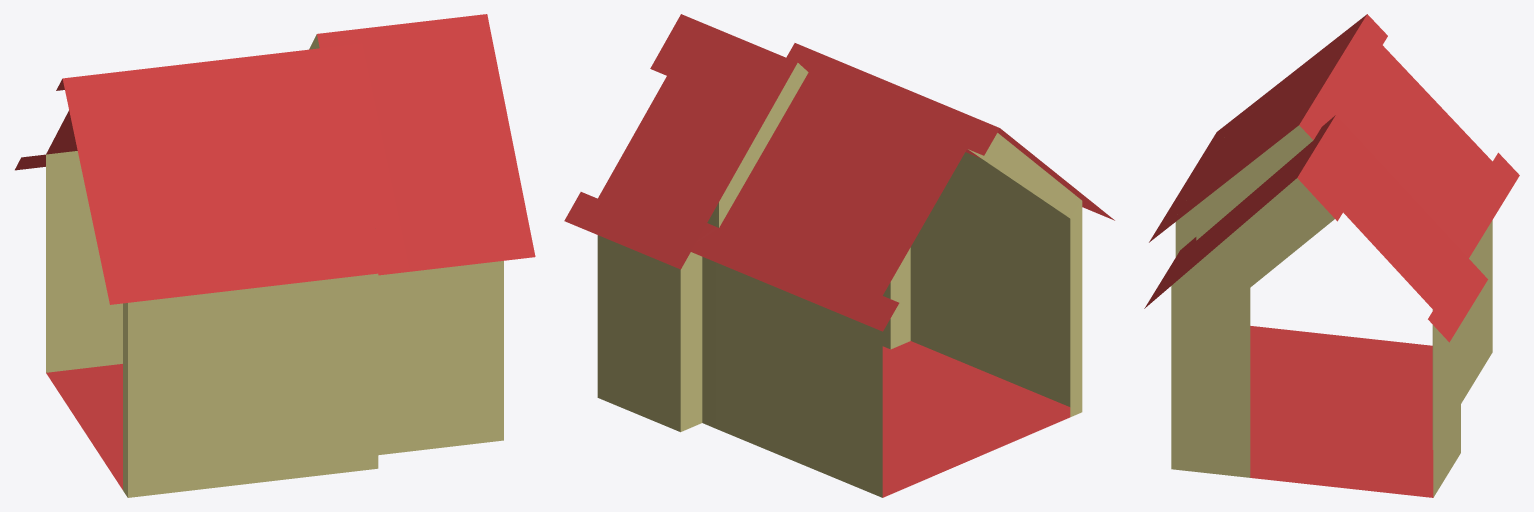
3 views of the same model, side by side, from view 1: azimuth 30°, elevation 25°; view 2: azimuth 150°, elevation 25°; view 3: azimuth 270°, elevation 25° (orthographic). The views are drawn at different scales.
Bounding box in the file's own units: 20.86 × 16.8 × 15.53.
